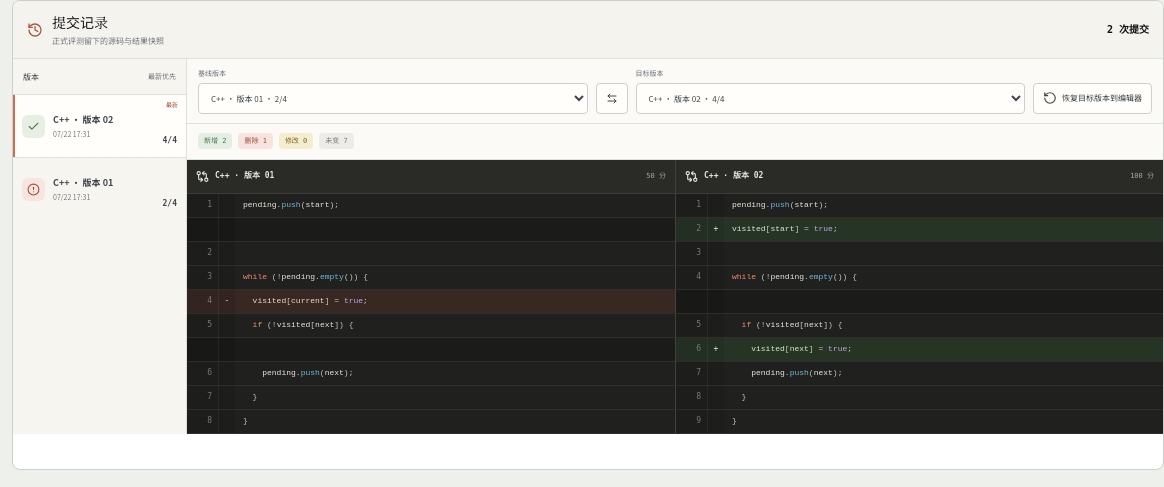
Test: SubmissionHistoryPanel › allows switching the comparison direction
Step 1. Click the button named "交换比较版本" → (612, 98), box left=596, top=82, right=628, bottom=114
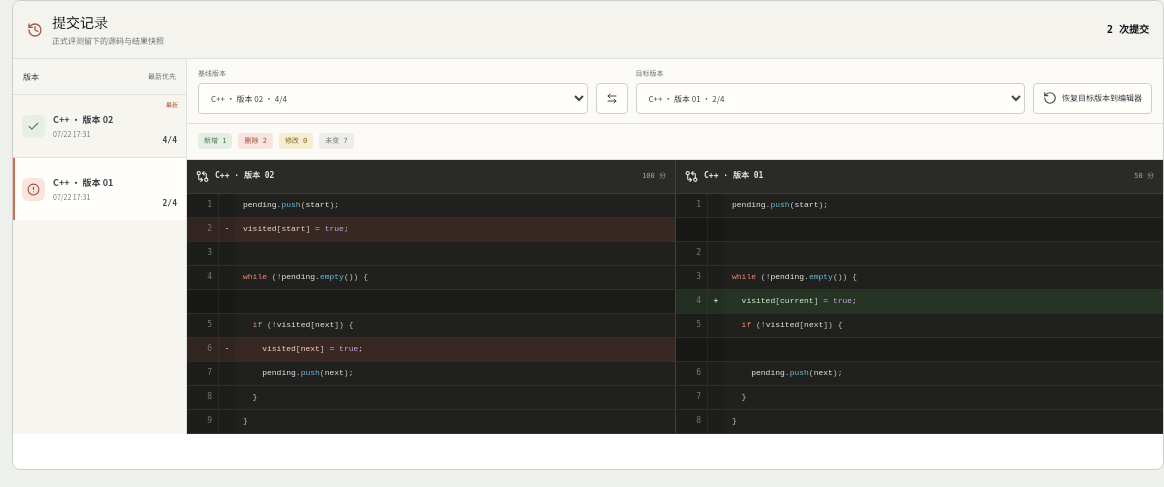
Result: the dropdown labelled "基线版本" shows "C++ · 版本 02 · 4/4" at left=198, top=82, right=588, bottom=114
Result: the dropdown labelled "目标版本" shows "C++ · 版本 01 · 2/4" at left=636, top=82, right=1025, bottom=114
